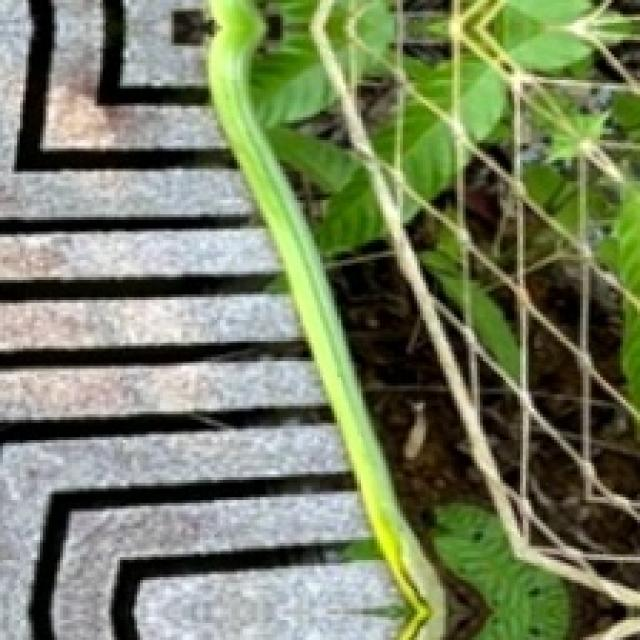red-tailed green ratsnake: (209, 0, 443, 637)
